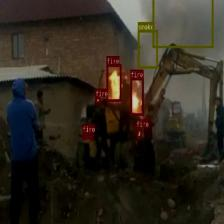fire: (106, 64, 121, 101), (130, 77, 143, 115), (82, 132, 93, 139), (136, 127, 141, 138), (95, 97, 100, 103)
smoke: (152, 0, 213, 48), (137, 30, 158, 68)
